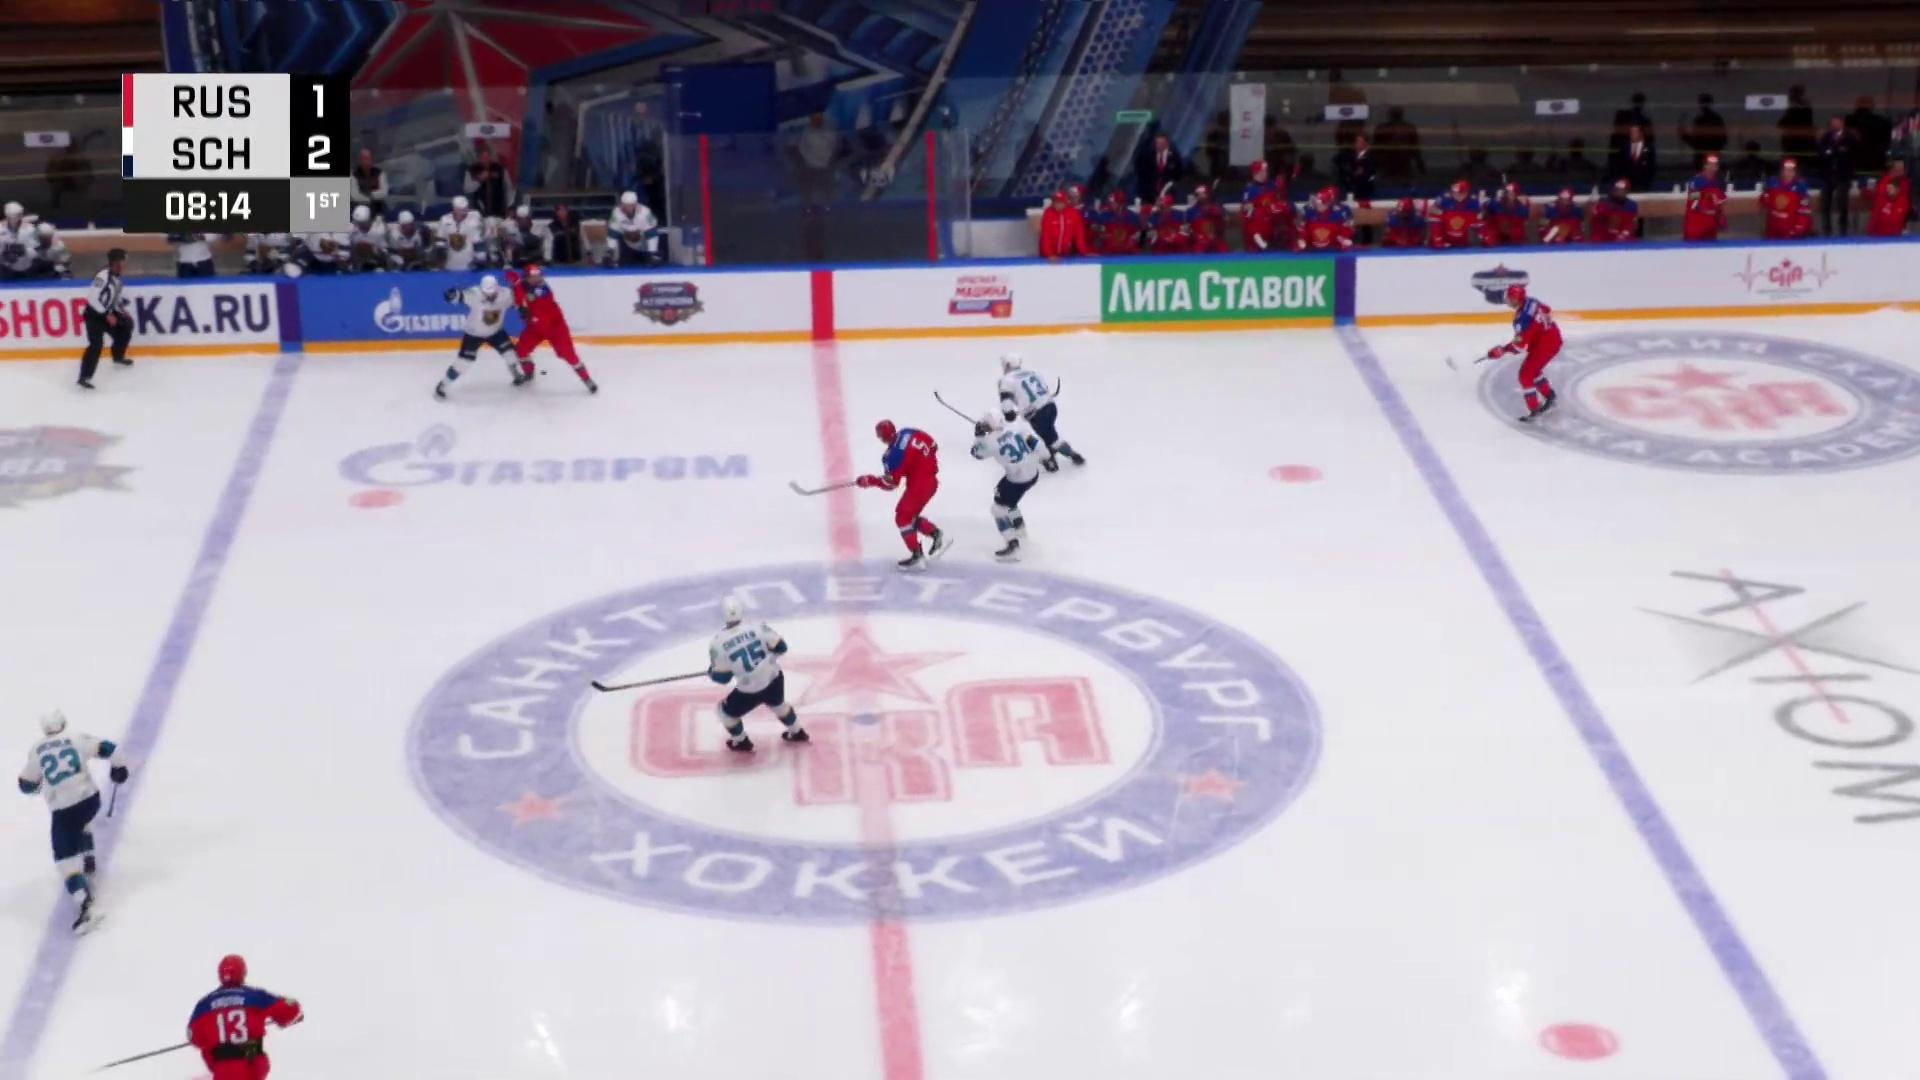ball: (541, 371, 547, 376)
